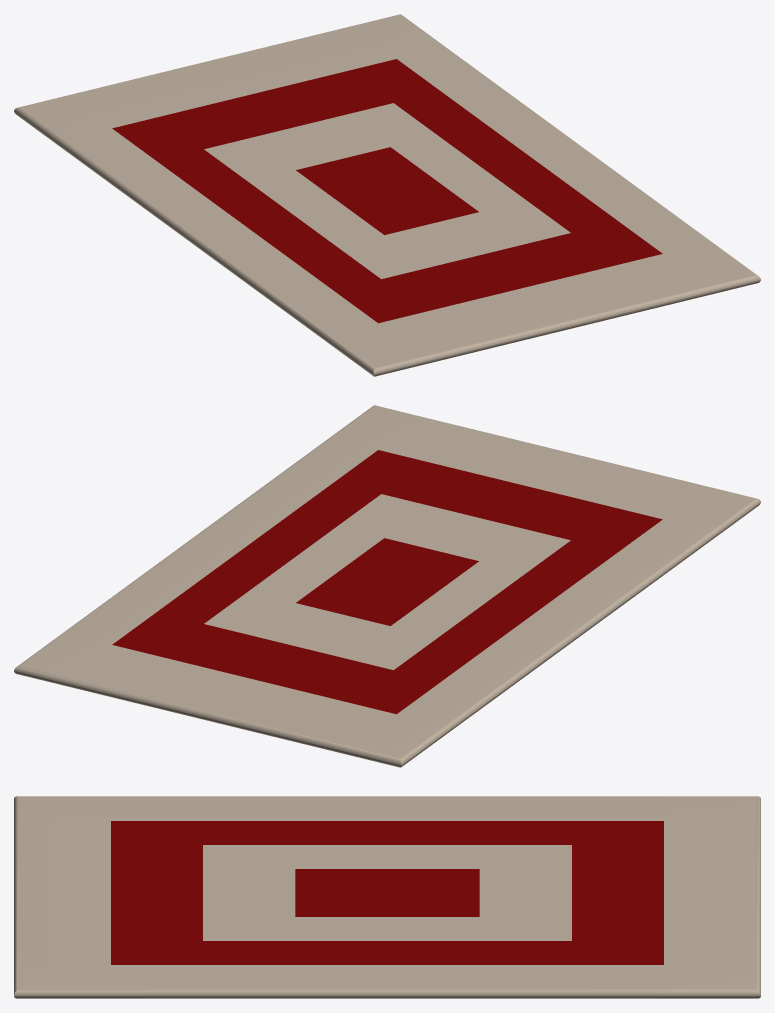
Rendered from Tapis_8.fbx.
3 renders of one model, top to bottom at view 1: azimuth 30°, elevation 25°; view 2: azimuth 150°, elevation 25°; view 3: azimuth 270°, elevation 25°, orthographic. The views are drawn at different scales.
Parts seen in each view (by area): view 1: pCube2875; view 2: pCube2875; view 3: pCube2875.
Boxes of the visible parts, <box> form: pCube2875: <box>14,14,760,376</box>; pCube2875: <box>14,405,760,767</box>; pCube2875: <box>14,796,760,998</box>.
Bounding box in the file's own units: 83.89 × 1.8 × 135.
